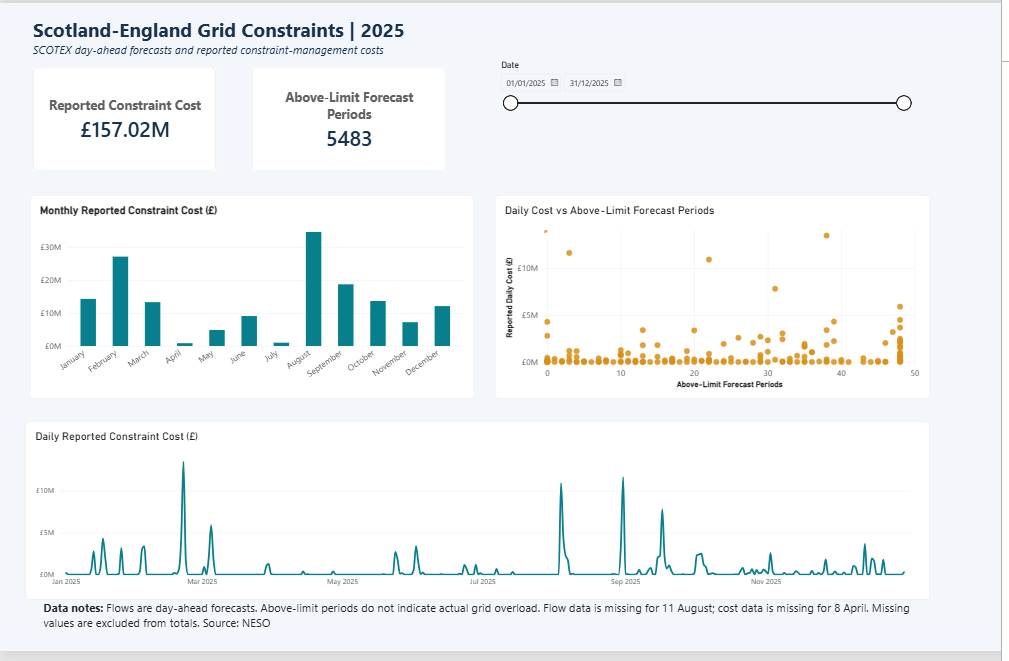

Layout of this report page (visuals, bound fields, positions):
{"tool":"powerbi","page":{"name":"Grid Constraints Overview","canvas":[1920,1080],"ordinal":0},"visuals":[{"type":"cardVisual","title":"Reported Constraint Cost","fields":{"Data":["Sum(scotex_daily_dashboard_2025.Daily_Cost_GBP)"]},"box":[55,107.5,305,172.5],"z":0},{"type":"cardVisual","fields":{"Data":["Sum(scotex_daily_dashboard_2025.Above_Limit_Periods)"]},"box":[420,107.5,322.5,172.5],"z":1000},{"type":"clusteredColumnChart","title":"Monthly Reported Constraint Cost (£)","fields":{"Category":["scotex_daily_dashboard_2025.Date.Variation.Date Hierarchy.Month"],"Y":["Sum(scotex_daily_dashboard_2025.Daily_Cost_GBP)"]},"box":[50,320,740,340],"z":2000},{"type":"scatterChart","title":"Daily Cost vs Above-Limit Forecast Periods","fields":{"X":["scotex_daily_dashboard_2025.Above_Limit_Periods"],"Y":["scotex_daily_dashboard_2025.Daily_Cost_GBP"]},"box":[825,320,725,340],"z":3000},{"type":"lineChart","title":"Daily Reported Constraint Cost (£)","fields":{"Category":["scotex_daily_dashboard_2025.Date"],"Y":["Sum(scotex_daily_dashboard_2025.Daily_Cost_GBP)"]},"box":[42.5,697.5,1507.5,297.5],"z":4000},{"type":"slicer","fields":{"Values":["scotex_daily_dashboard_2025.Date"]},"box":[827.5,95,695,205],"z":5000},{"type":"textbox","box":[72.5,995,1467.5,85],"z":6000},{"type":"textbox","box":[55,22.5,730,72.5],"z":7000}]}

Visuals, with their boxes on the page's 1920x1080 design canvas (x1, y1, x2, y2). These are canvas units, not pixel positions in the 1009x661 screenshot, which may show the page scaled, cropped or inside an application window:
"Reported Constraint Cost" cardVisual: (55,108,360,280)
cardVisual - Sum(scotex_daily_dashboard_2025.Above_Limit_Periods): (420,108,742,280)
"Monthly Reported Constraint Cost (£)" clusteredColumnChart: (50,320,790,660)
"Daily Cost vs Above-Limit Forecast Periods" scatterChart: (825,320,1550,660)
"Daily Reported Constraint Cost (£)" lineChart: (42,698,1550,995)
slicer - scotex_daily_dashboard_2025.Date: (828,95,1522,300)
textbox: (72,995,1540,1080)
textbox: (55,22,785,95)
